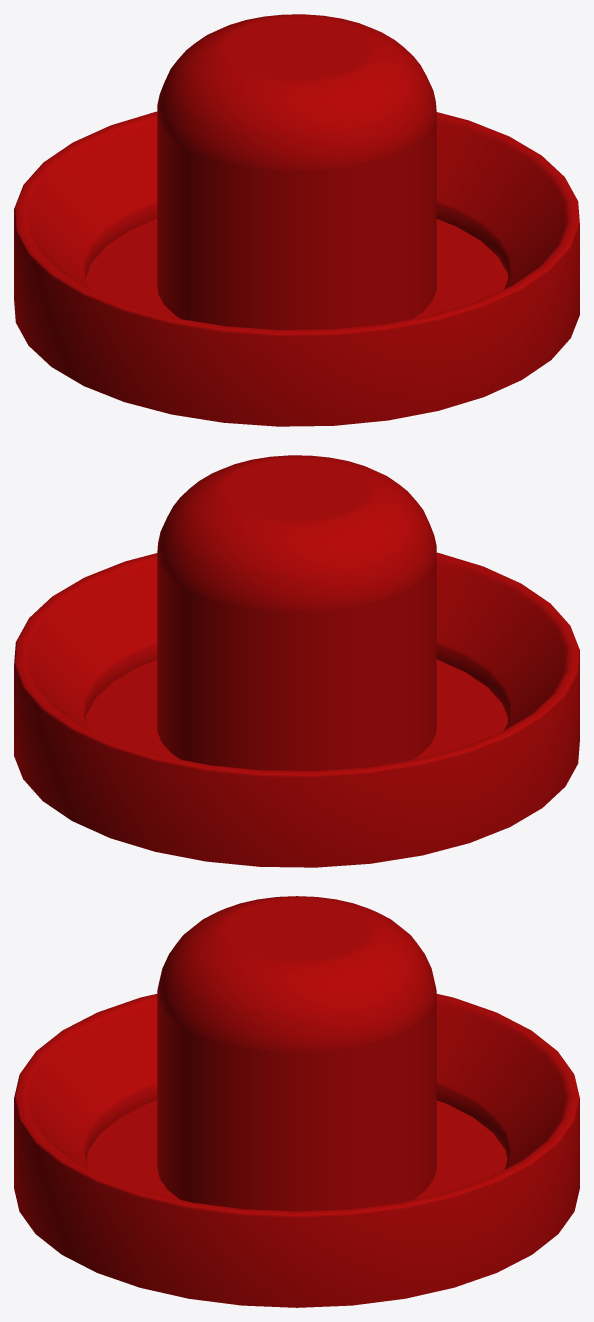
File: paddel 1.FBX
The picture shows the model from 3 angles, top to bottom: view 1: azimuth 30°, elevation 25°; view 2: azimuth 150°, elevation 25°; view 3: azimuth 270°, elevation 25°; orthographic projection.
Visible parts, largest first — view 1: ARCHMODELS_47_001_11; view 2: ARCHMODELS_47_001_11; view 3: ARCHMODELS_47_001_11.
Part boxes in pixels (x1=…): ARCHMODELS_47_001_11: x1=14, y1=14, x2=579, y2=426; ARCHMODELS_47_001_11: x1=14, y1=455, x2=579, y2=867; ARCHMODELS_47_001_11: x1=14, y1=896, x2=579, y2=1307.
Bounding box in the file's own units: 99.48 × 49.94 × 99.48.
